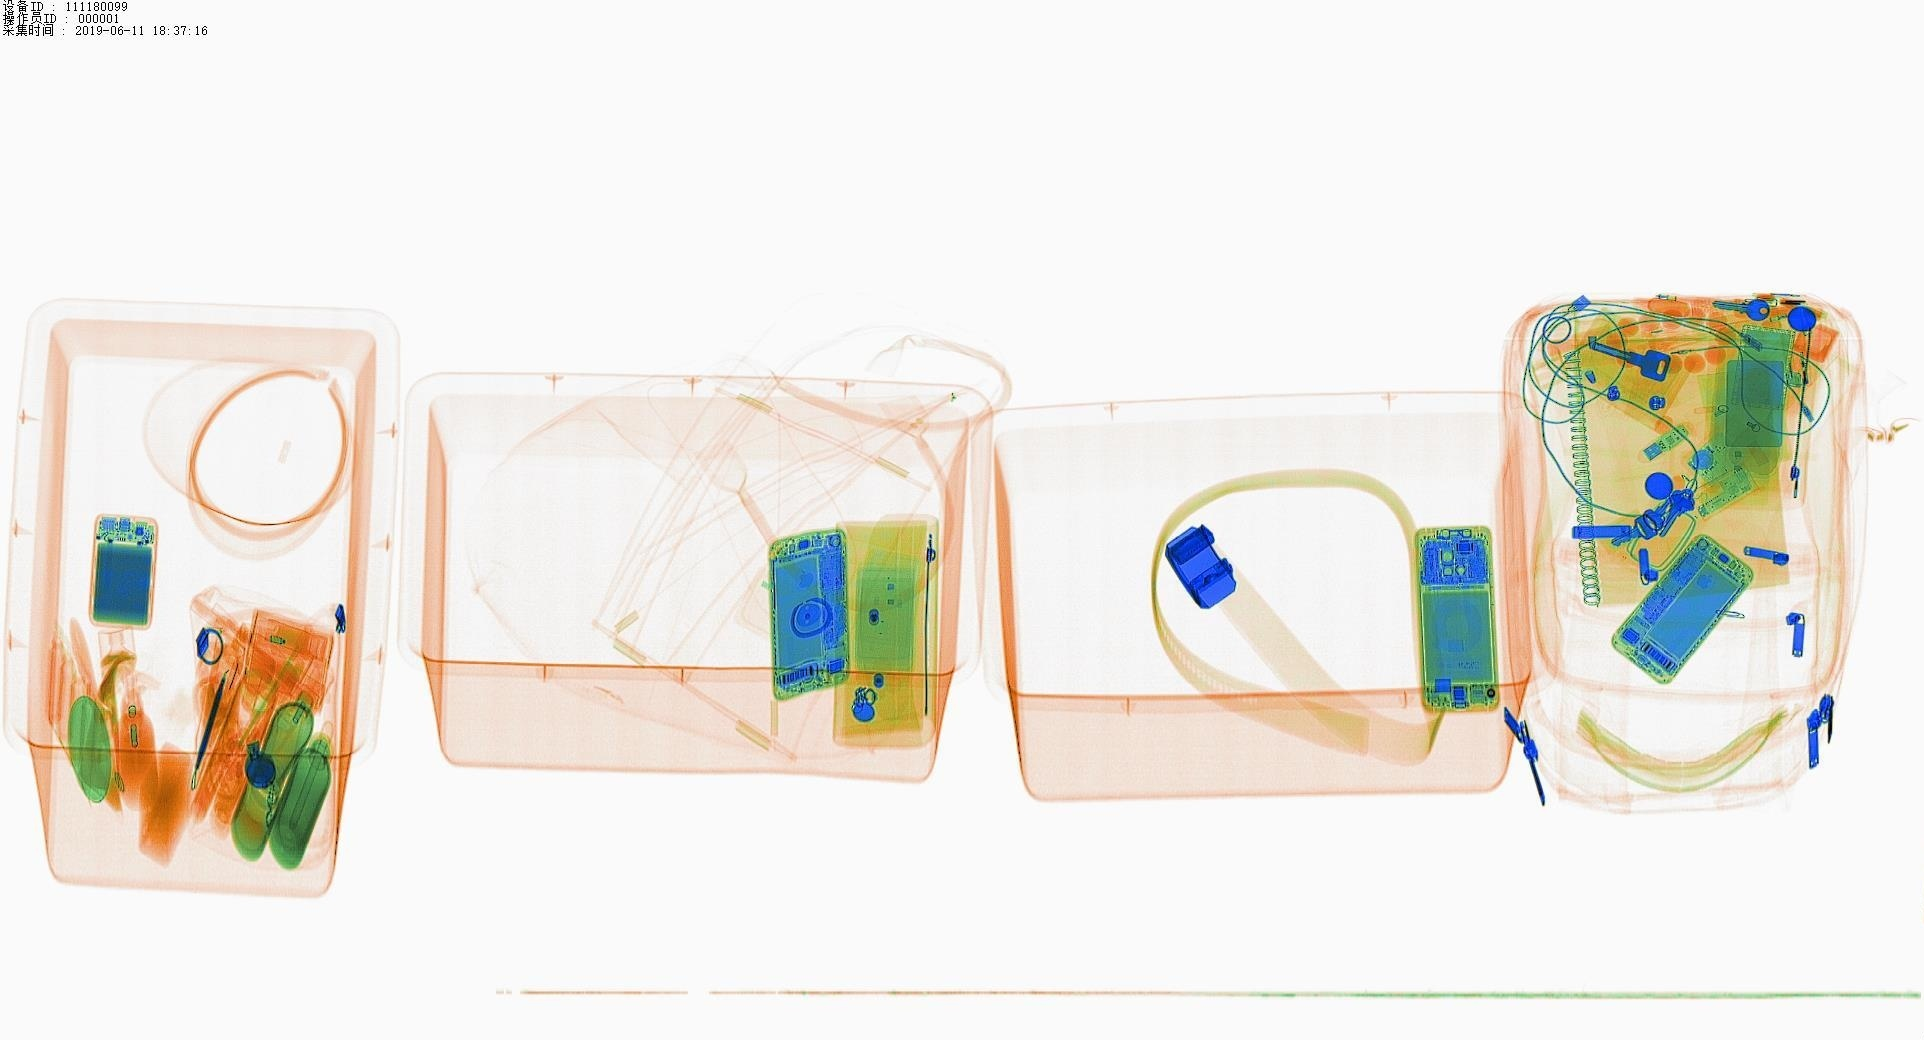NonmetallicFire: (1761, 282, 1823, 420)
